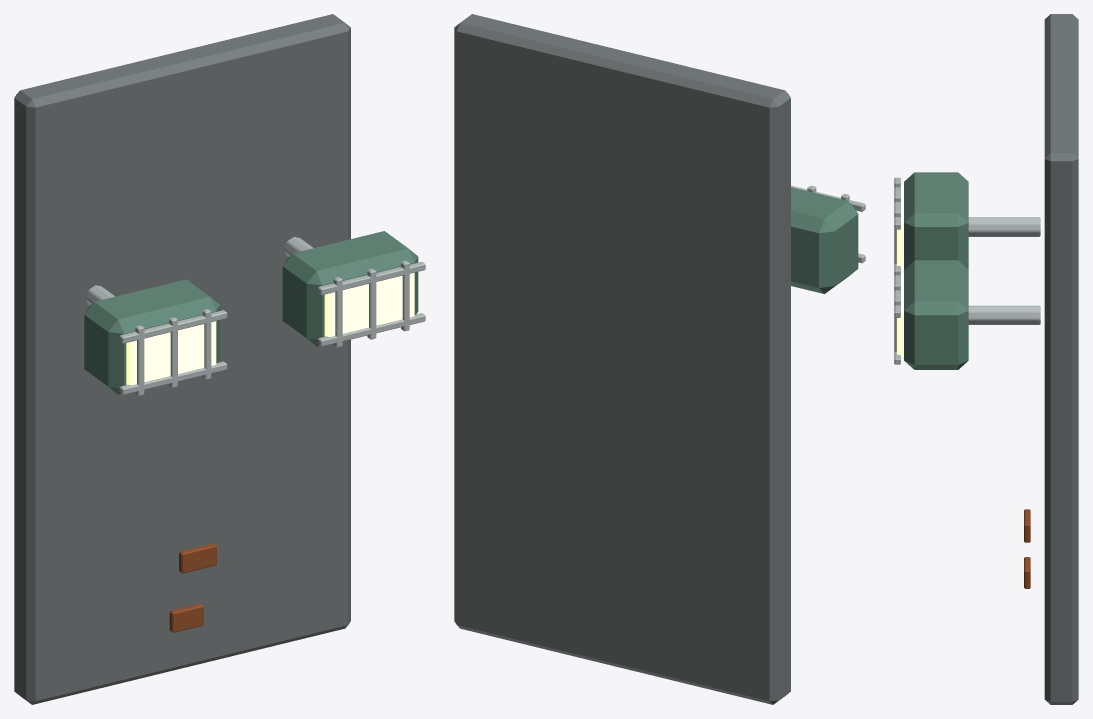
File: runtime.glb
3 renders of one model, left to right at view 1: azimuth 30°, elevation 25°; view 2: azimuth 150°, elevation 25°; view 3: azimuth 270°, elevation 25°, orthographic. The views are drawn at different scales.
Parts seen in each view (by area): view 1: reactor-maintenance-light-v02_nocol; view 2: reactor-maintenance-light-v02_nocol; view 3: reactor-maintenance-light-v02_nocol.
Part boxes in pixels (x1=…): reactor-maintenance-light-v02_nocol: x1=14, y1=14, x2=425, y2=704; reactor-maintenance-light-v02_nocol: x1=454, y1=14, x2=865, y2=704; reactor-maintenance-light-v02_nocol: x1=894, y1=14, x2=1078, y2=704.
Size of the model in its own units: 1.8 by 3.21 by 0.9715.
